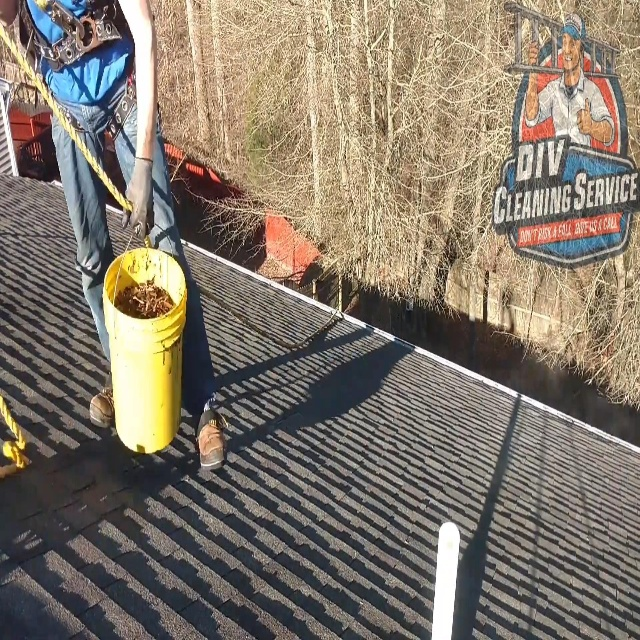Arnes_seguridad: (16, 0, 139, 148)
